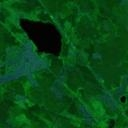alloviz: (18, 16, 63, 57), (119, 94, 126, 104)
